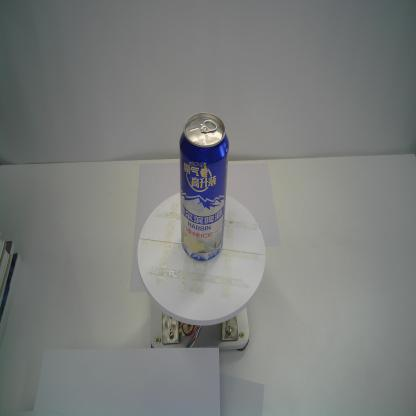Alcohol: (179, 110, 230, 264)
